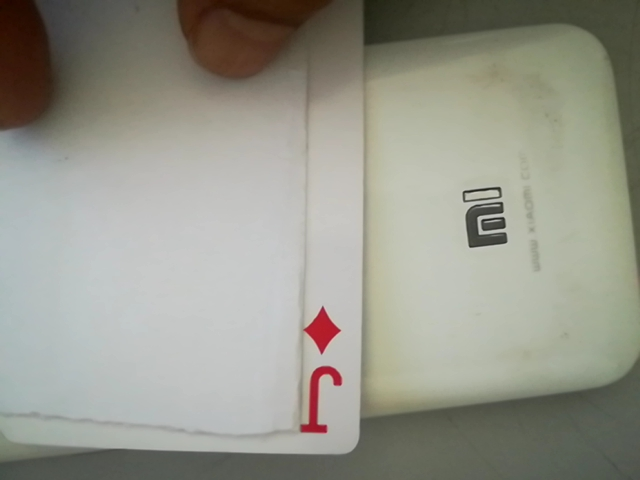fk j: (287, 303, 356, 446)
